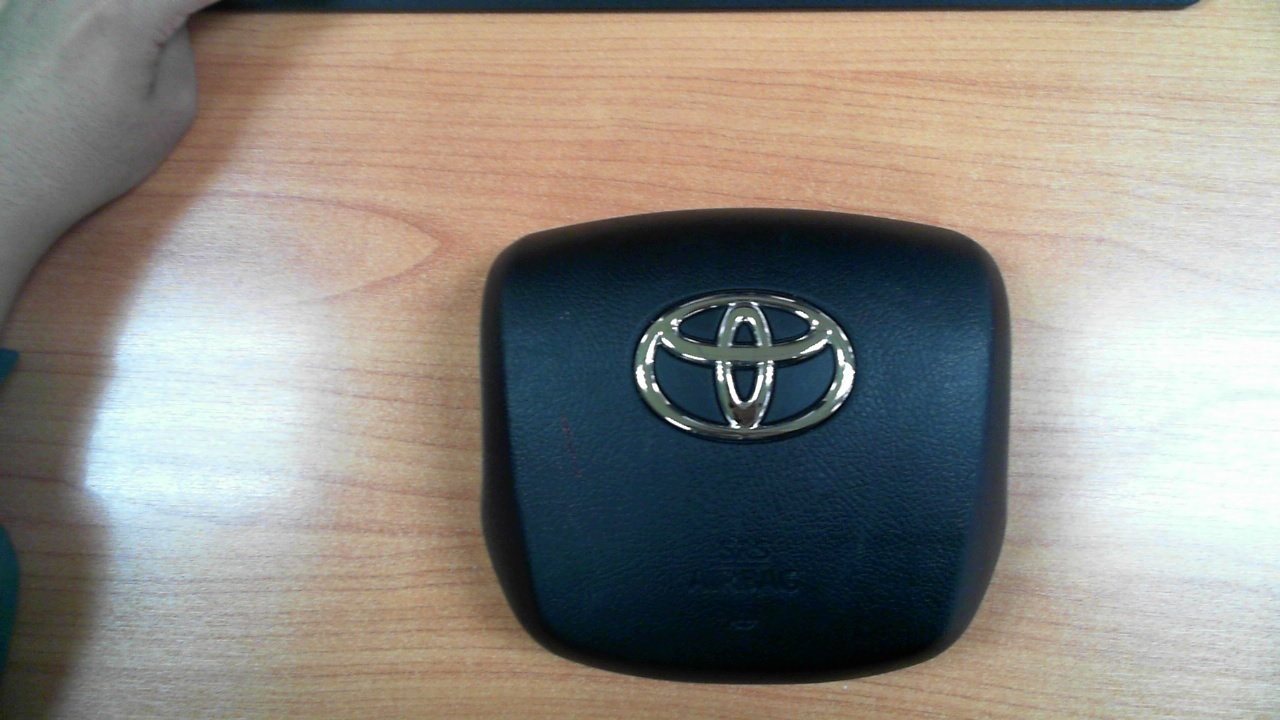Airbag: (469, 216, 1007, 687)
Toyota: (634, 292, 857, 440)
